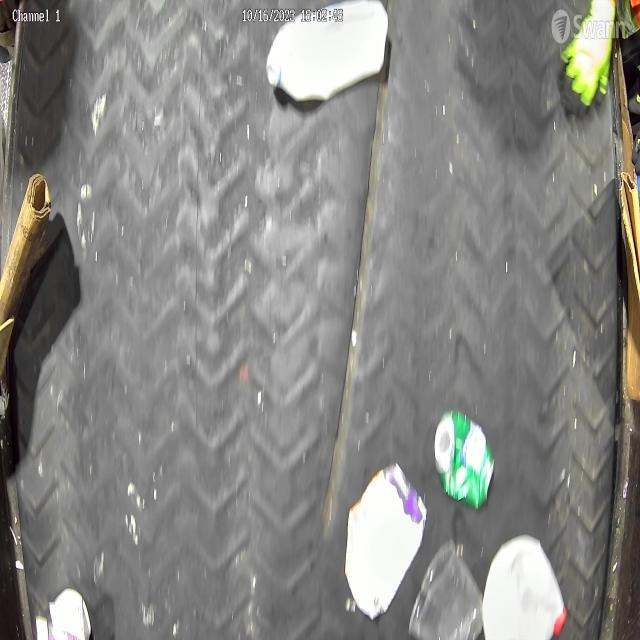can: (436, 401, 496, 509)
milk_jug: (266, 0, 388, 102), (483, 530, 558, 640)
